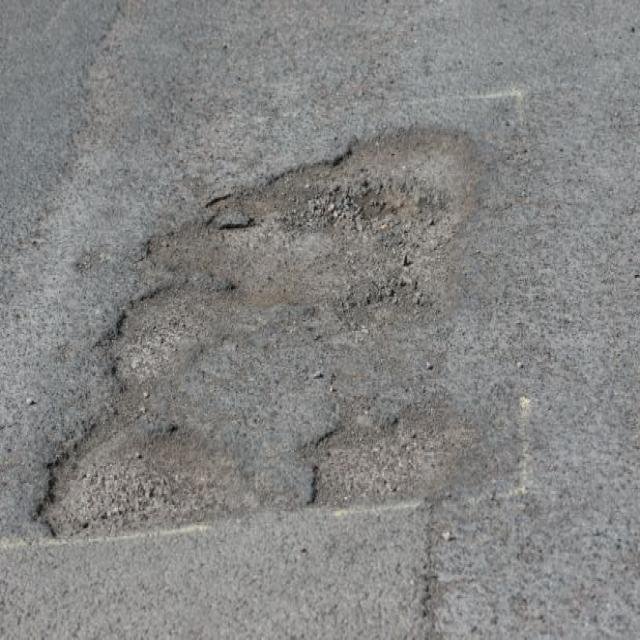Pothole: (143, 118, 494, 314), (29, 400, 259, 542), (295, 389, 479, 512), (88, 287, 248, 390)
